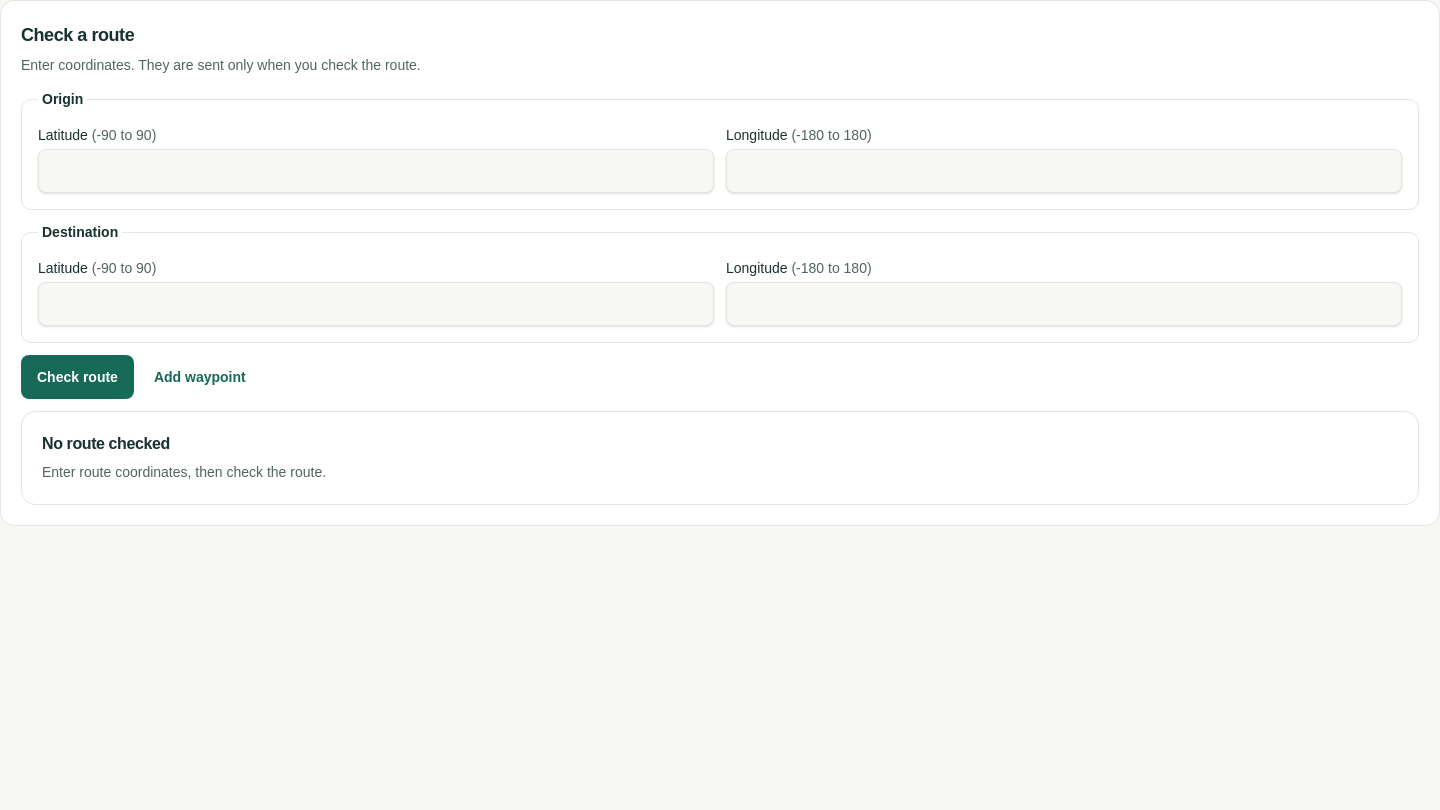
Test case: RouteRelevanceExperience › validates latitude, longitude, and ordered waypoint fields before requesting
Step 1. Type "91" into the number field labelled "Latitude (-90 to 90)" below "Origin" → point(376, 171), box x1=38 y1=149 x2=714 y2=193
Step 2. Type "3.3792" into the 1st number field labelled "Longitude (-180 to 180)" → point(1064, 171), box x1=726 y1=149 x2=1402 y2=193
Step 3. Type "6.4541" into the number field labelled "Latitude (-90 to 90)" below "Destination" → point(376, 304), box x1=38 y1=282 x2=714 y2=326
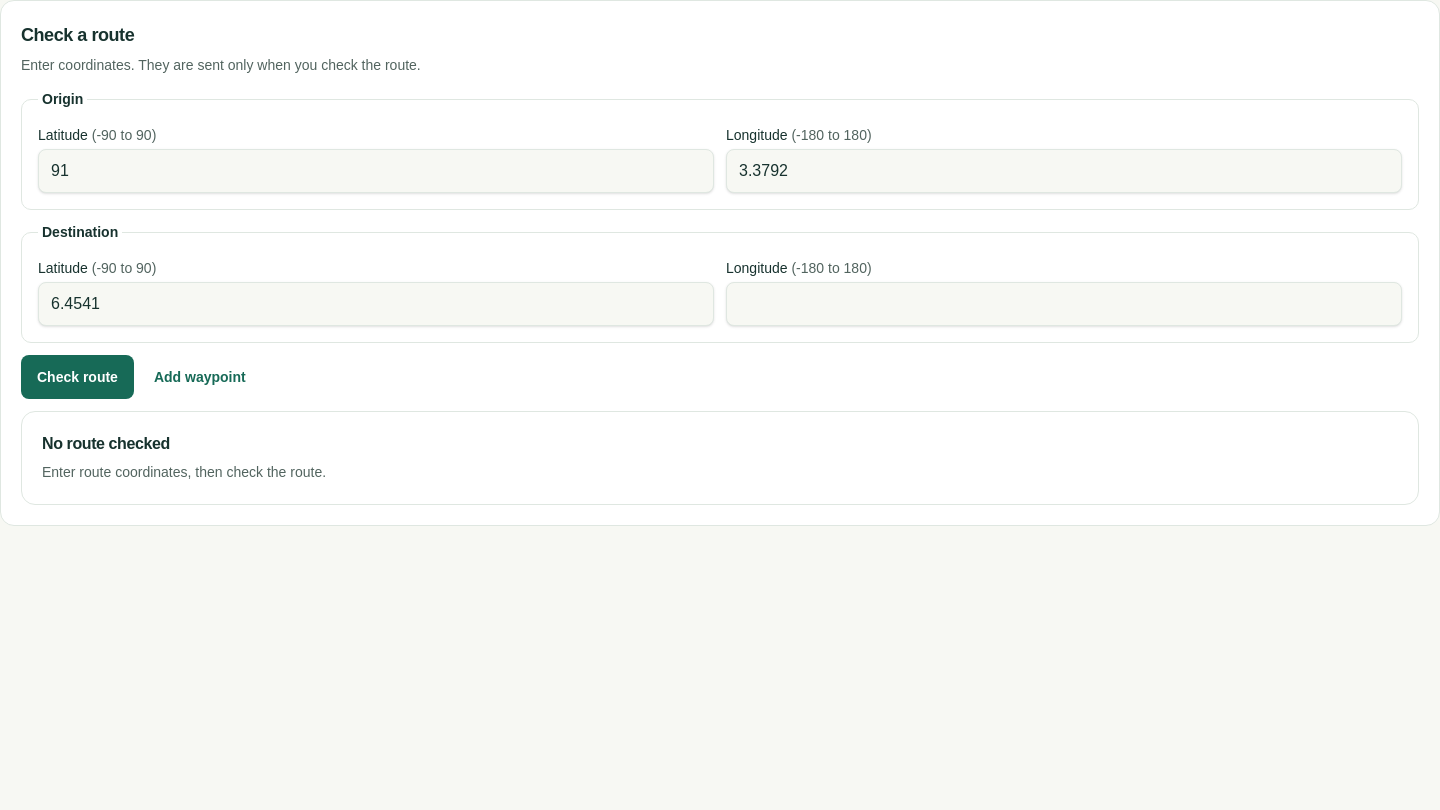
Step 4. Type "3.3947" into the 2nd number field labelled "Longitude (-180 to 180)" → point(1064, 304), box x1=726 y1=282 x2=1402 y2=326
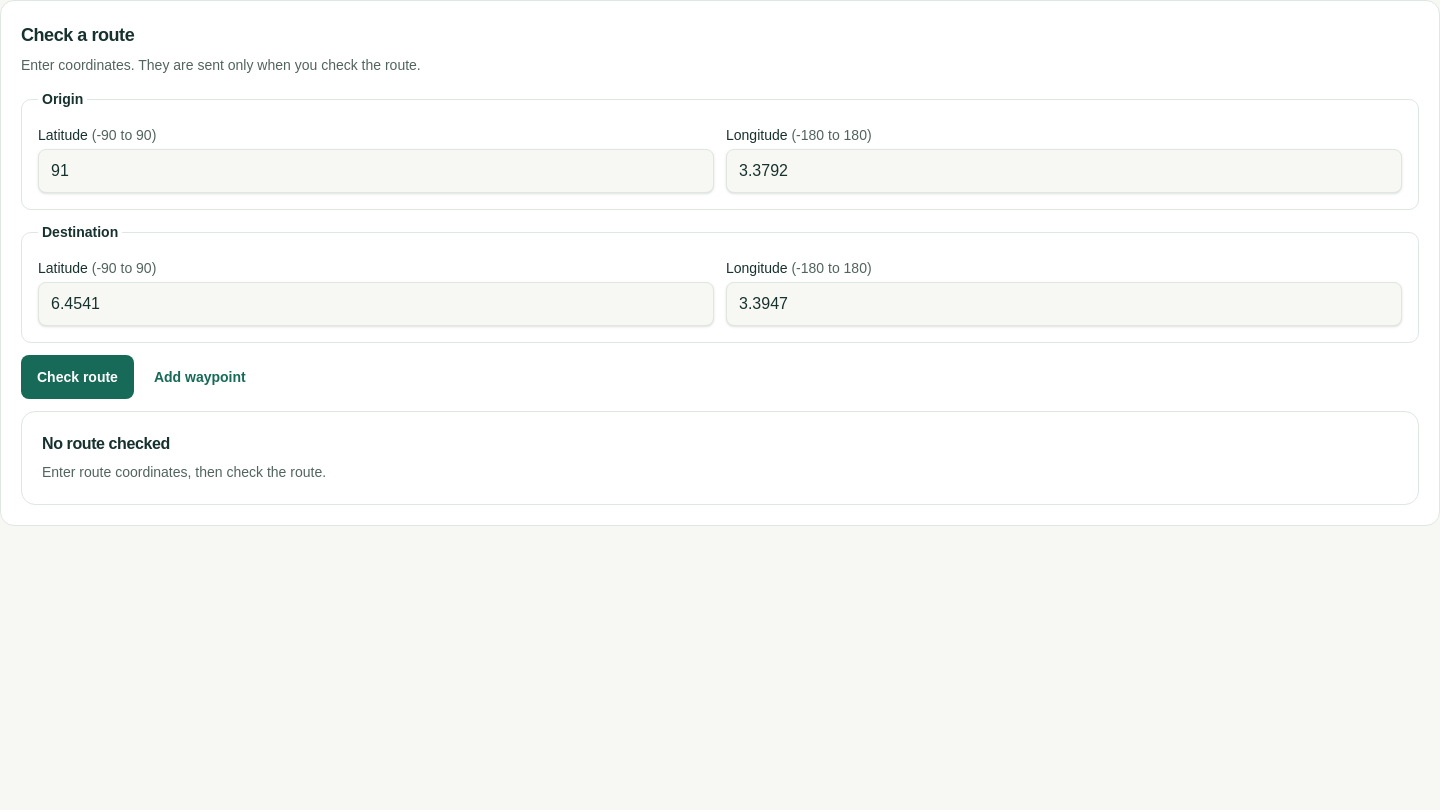
Step 5. Submit the form named "Check route relevance", box x1=21 y1=89 x2=1419 y2=399
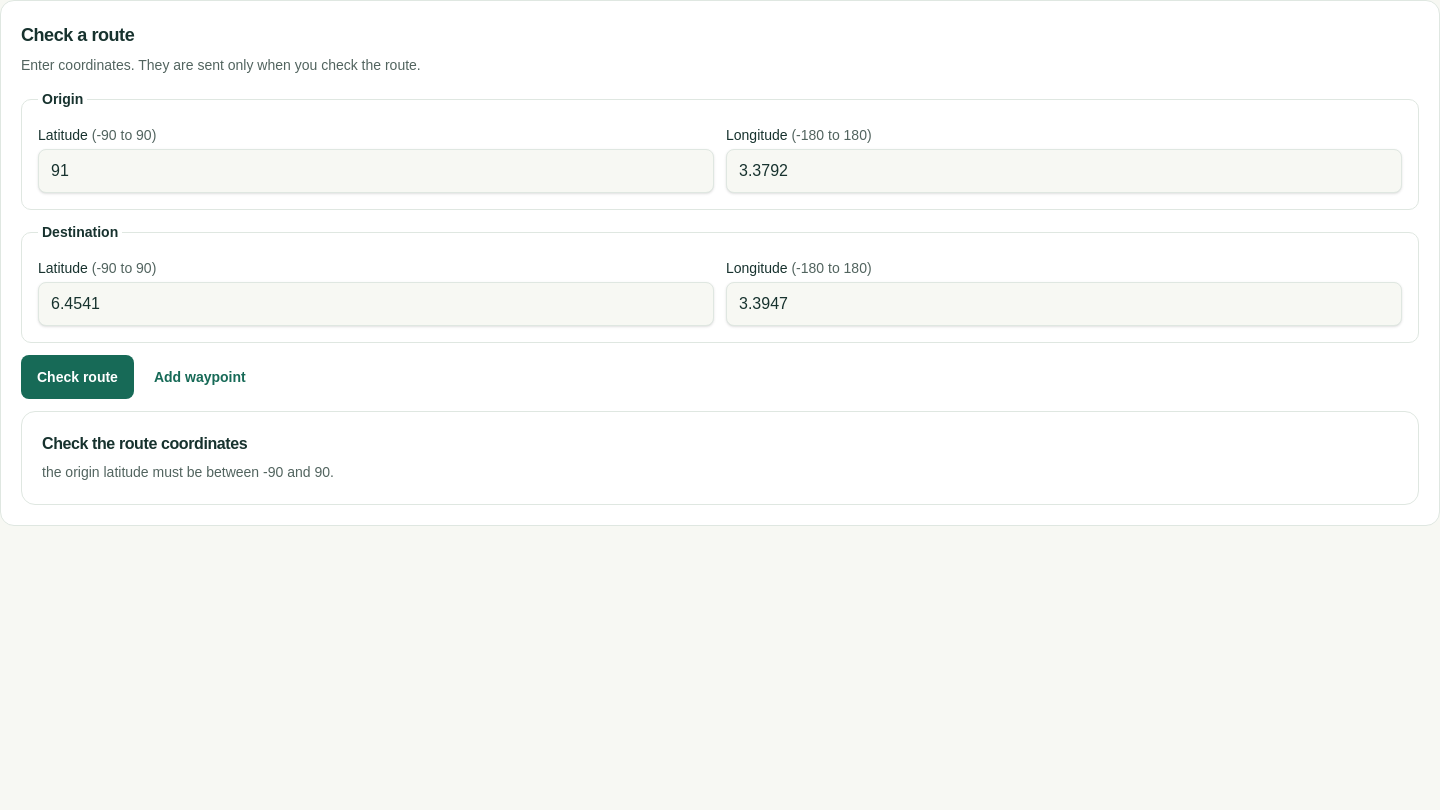
Expected: the text "the origin latitude must be between -90 and 90." is shown, x1=42 y1=464 x2=334 y2=480
Step 6. Replace the text in the 1st number field labelled "Latitude (-90 to 90)" with "6.5244" → point(376, 171), box x1=38 y1=149 x2=714 y2=193
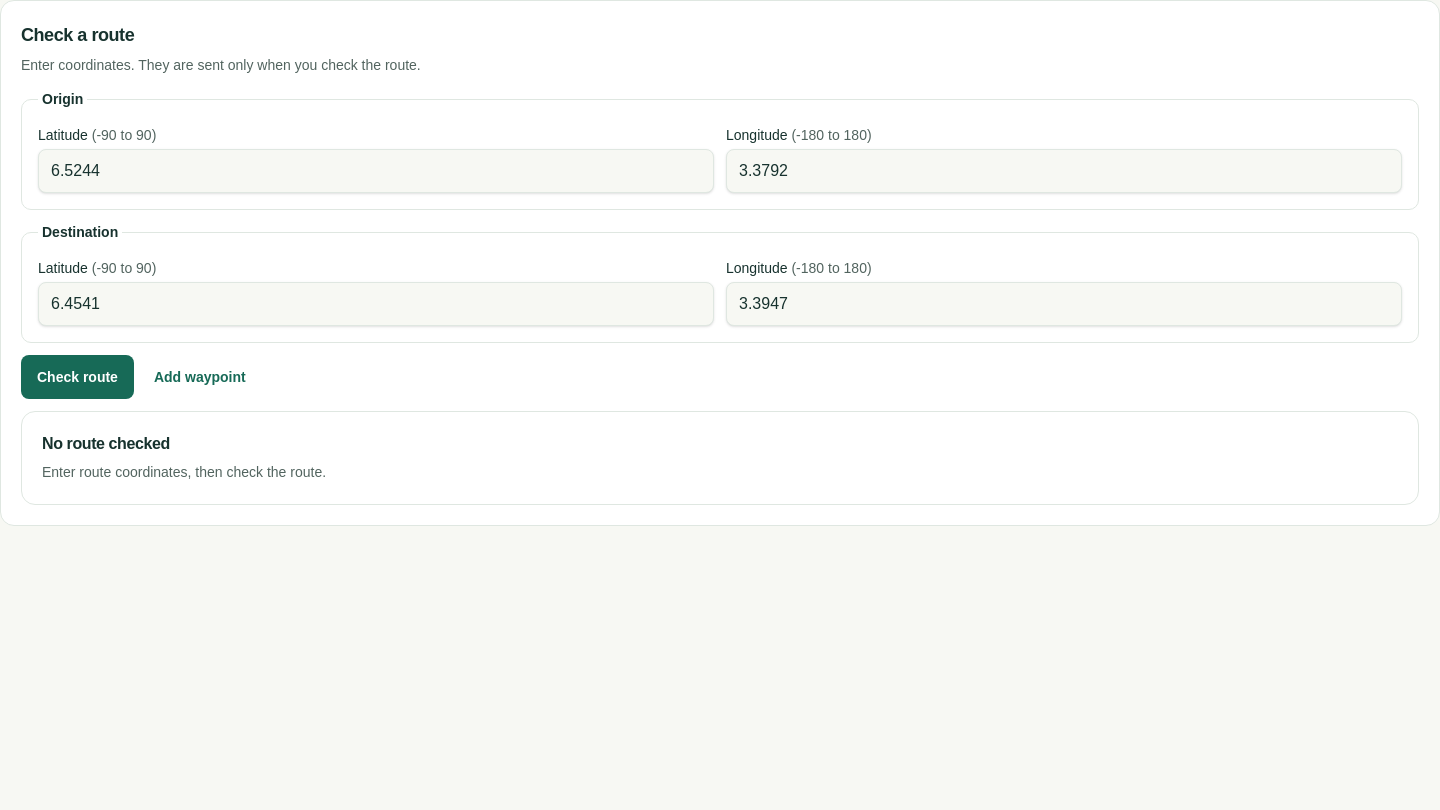
Step 7. Click the button "Add waypoint" → point(200, 377), box x1=142 y1=355 x2=258 y2=399
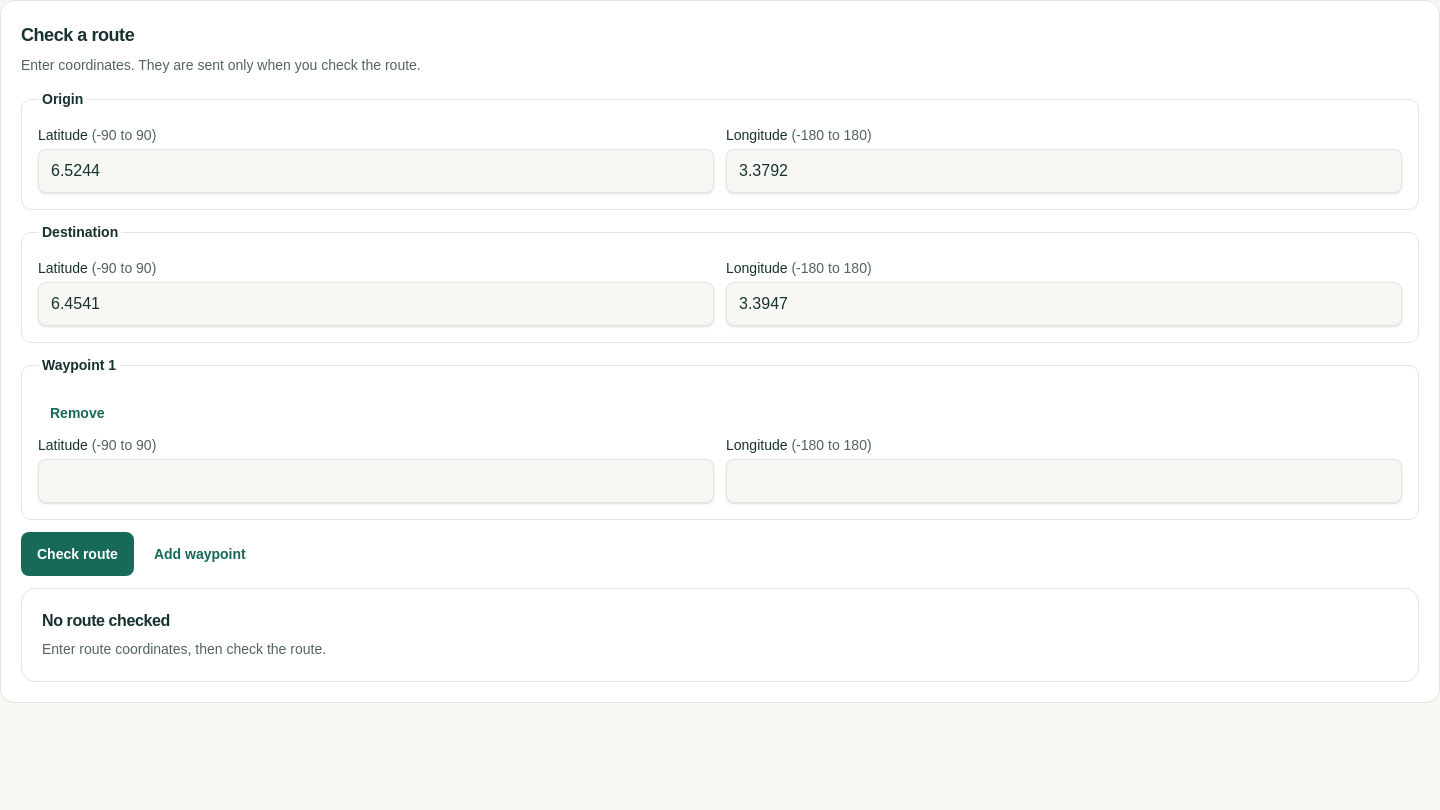
Step 8. Click the button "Check route" → point(77, 554), box x1=21 y1=532 x2=134 y2=576
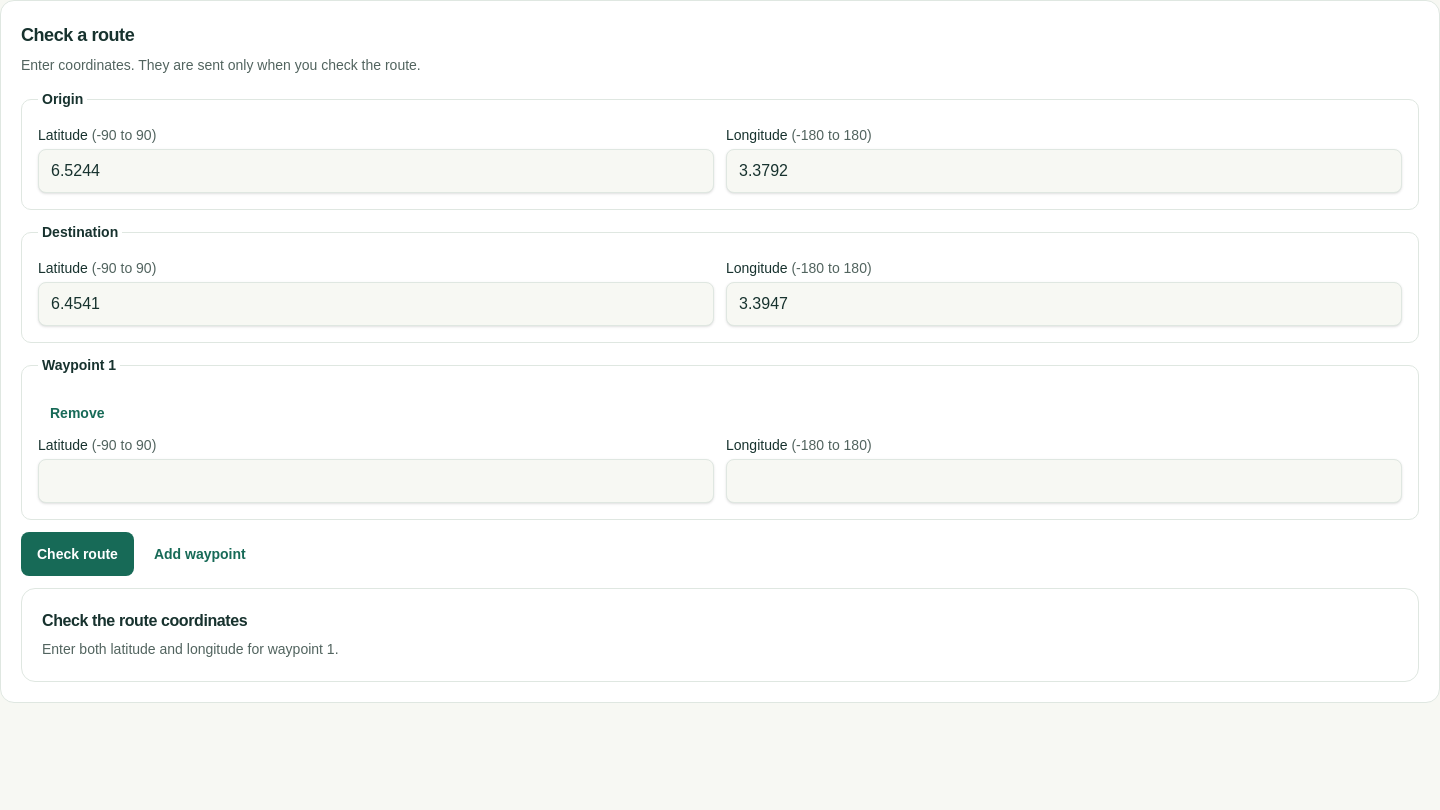
Expected: the text "Enter both latitude and longitude for waypoint 1." is shown, x1=42 y1=641 x2=338 y2=657
